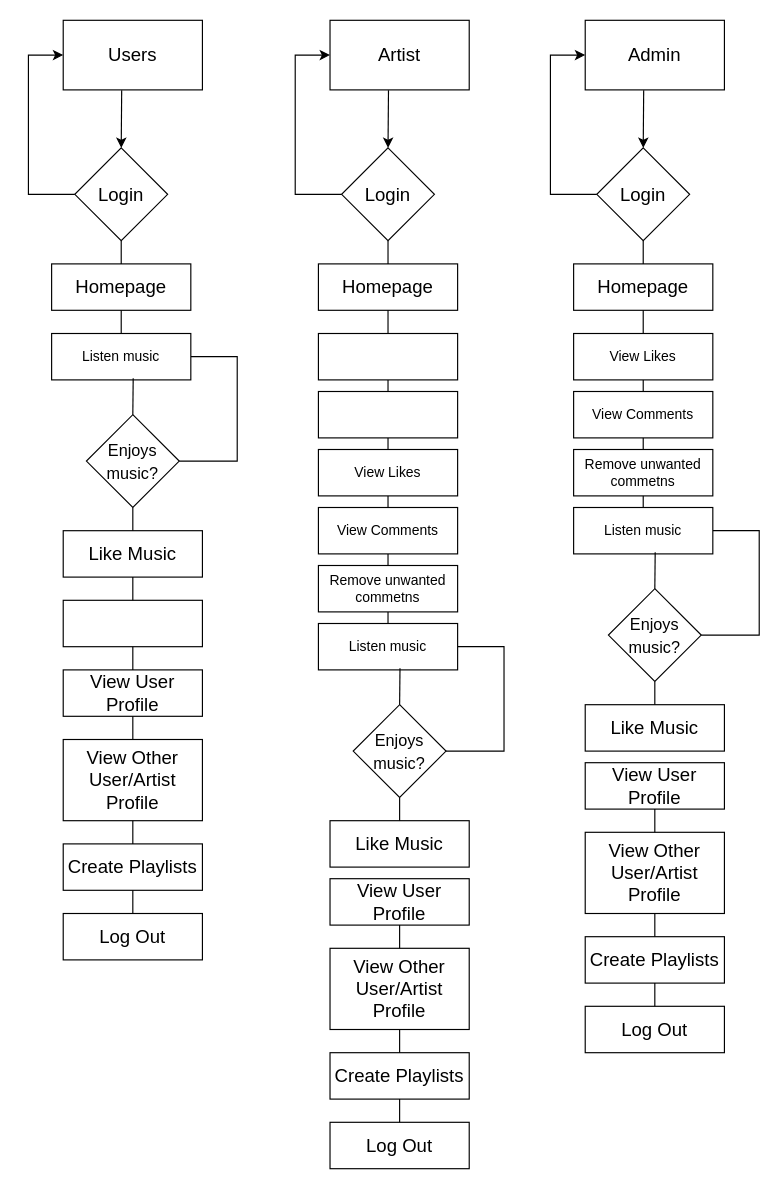
Some shapes in this 781 by 1189 pixel diagram are drawn without their labels. The centre of each missing label's shape, as x and y in pixels:
"Post Comment" goes at pixel 132 623.
"Post Music" goes at pixel 387 356.
"View Music" goes at pixel 387 414.
